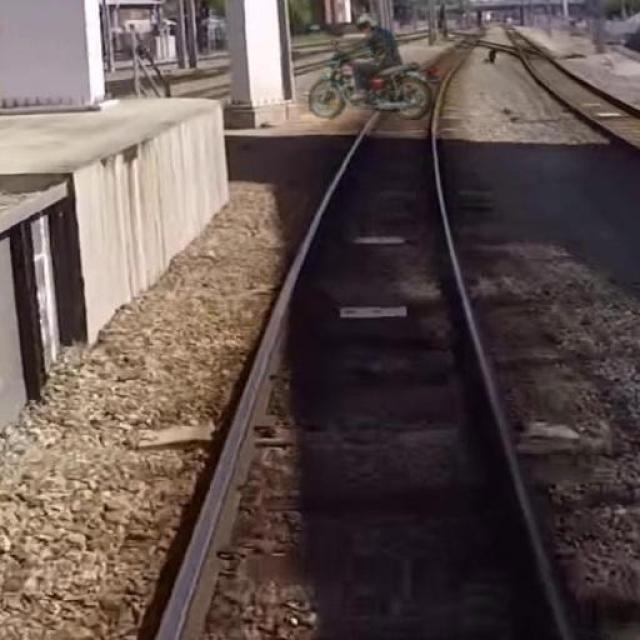vehicle: (307, 52, 441, 122)
